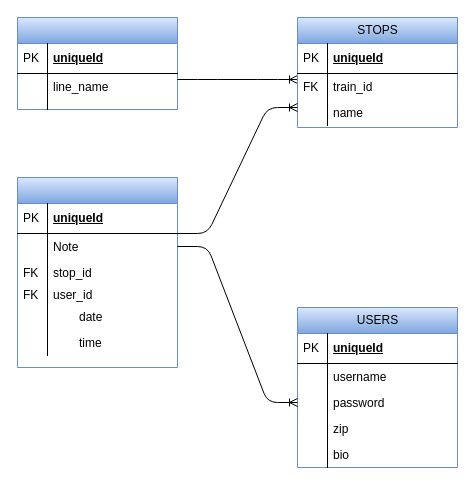
Image size: 475x488. Some labels were removed from this diagram. Here are the shapes that lost their labels. From the top down, the box of each, then its label:
(16, 16, 178, 110): TRAINS
(16, 176, 178, 368): COMMENTS
